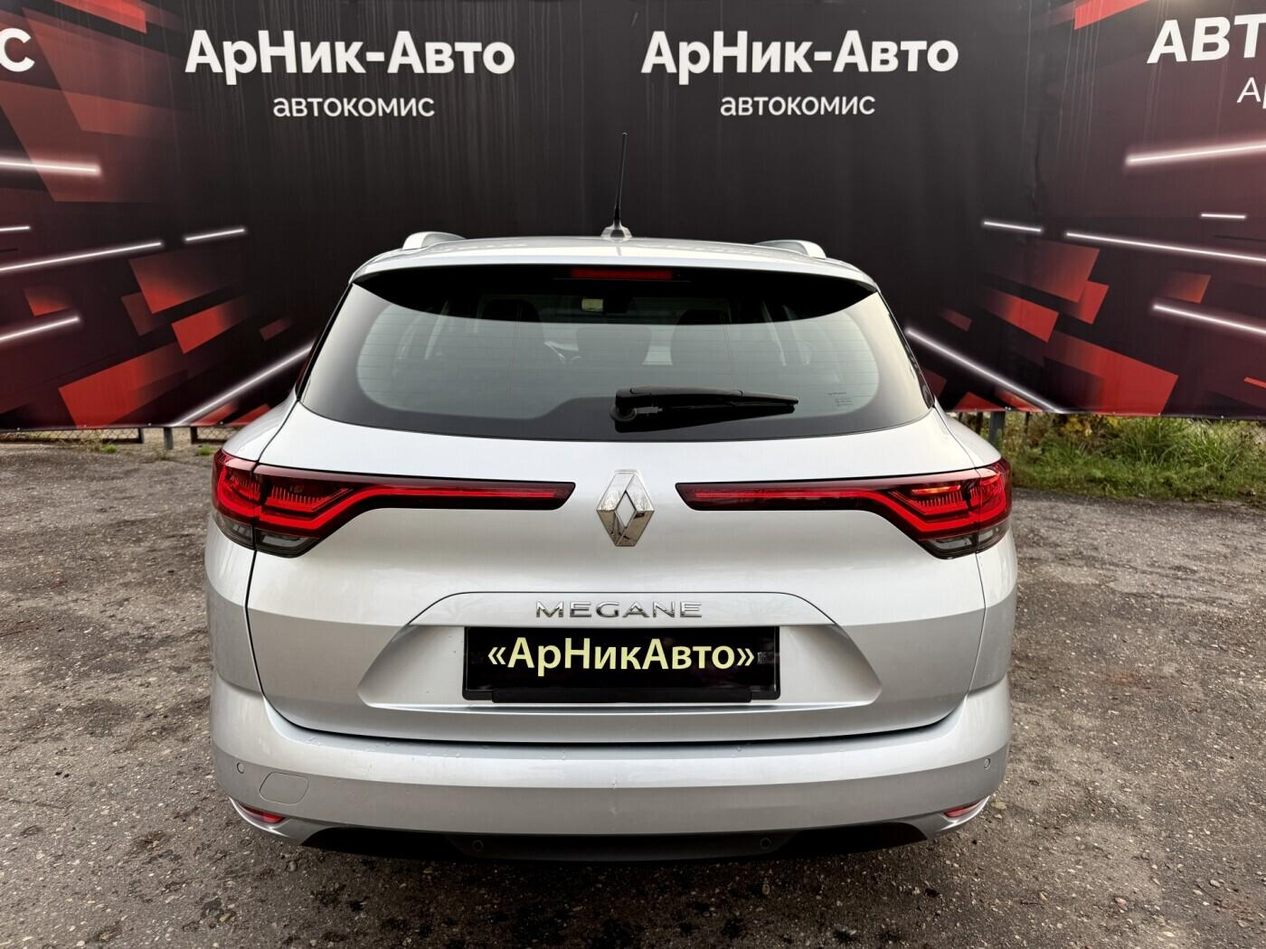Megane_2020: (185, 231, 1012, 868)
